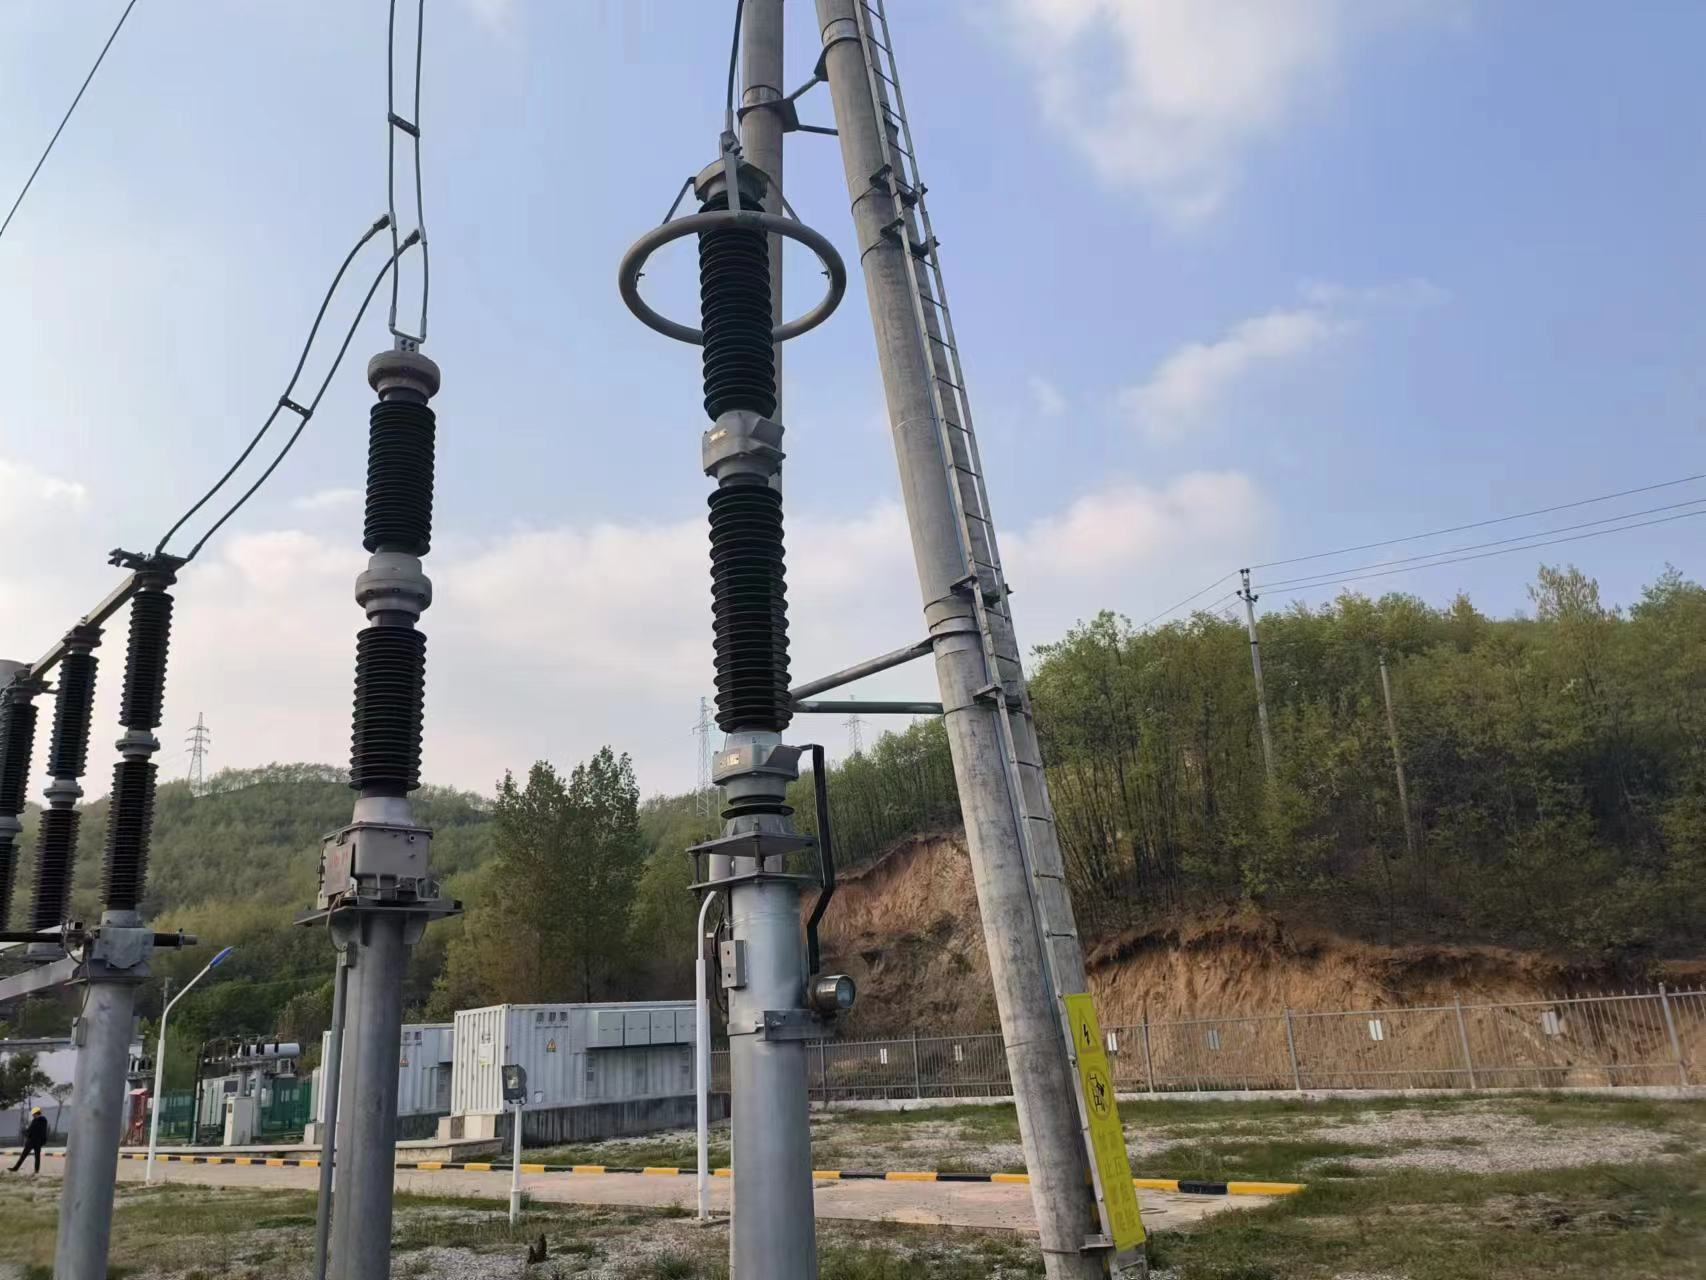Arrester: (612, 153, 852, 769)
